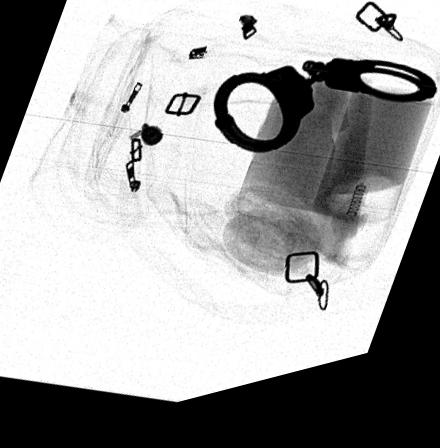HandCuffs: (212, 75, 436, 167)
